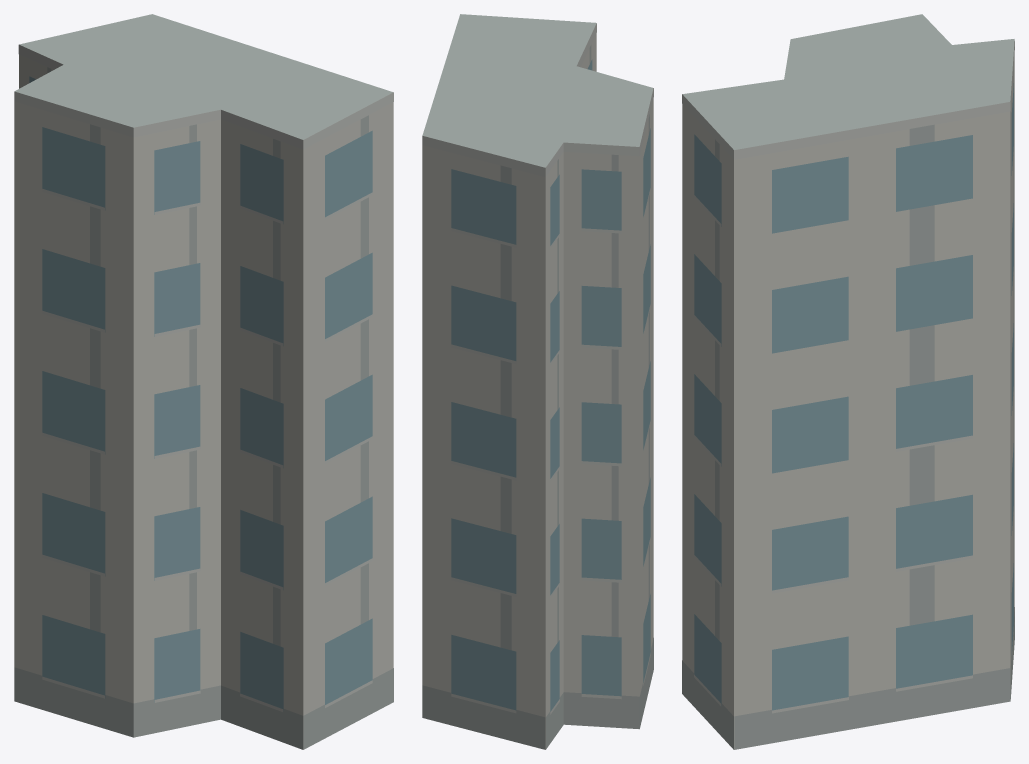
File: survey-upis-32817932.glb
3 renders of one model, left to right at view 1: azimuth 30°, elevation 25°; view 2: azimuth 150°, elevation 25°; view 3: azimuth 270°, elevation 25°, orthographic. The views are drawn at different scales.
Visible parts, largest first — view 1: survey-upis-32817932.tmp; view 2: survey-upis-32817932.tmp; view 3: survey-upis-32817932.tmp.
Boxes of the visible parts, bbox=[...] form: survey-upis-32817932.tmp: bbox=[14, 14, 393, 749]; survey-upis-32817932.tmp: bbox=[422, 14, 653, 749]; survey-upis-32817932.tmp: bbox=[682, 14, 1014, 749].
Size of the model in its own units: 7.43 by 15.25 by 7.67.
